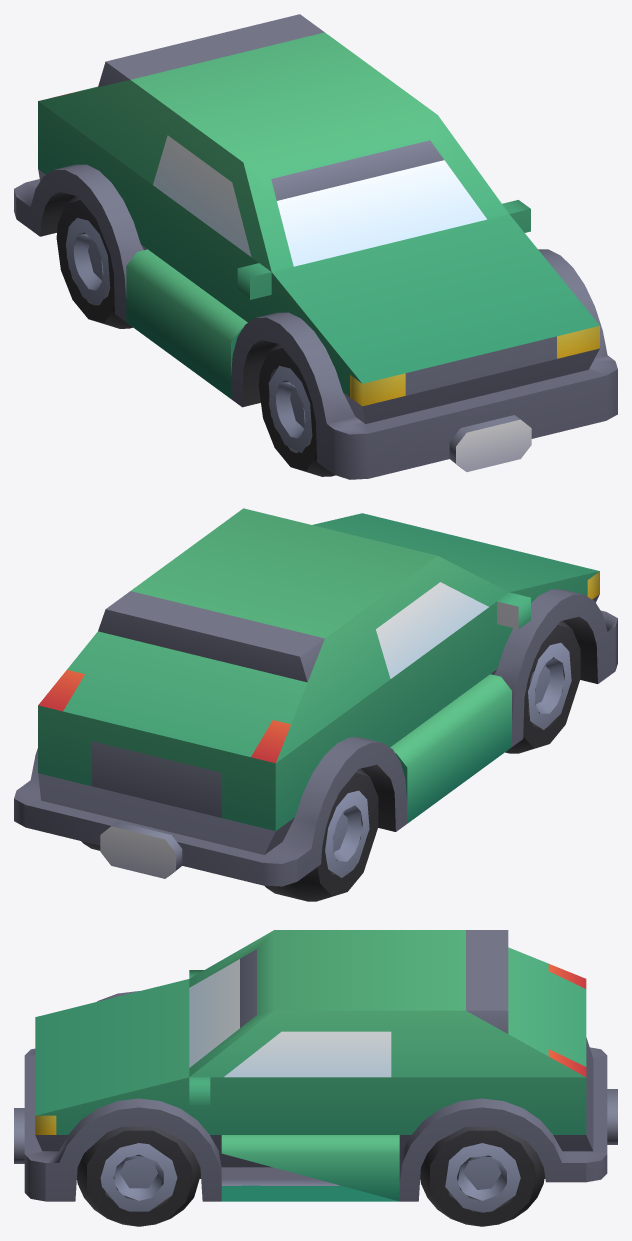
The model's file is hatchback-sports.glb.
The picture shows the model from 3 angles, top to bottom: view 1: azimuth 30°, elevation 25°; view 2: azimuth 150°, elevation 25°; view 3: azimuth 270°, elevation 25°; orthographic projection. The views are drawn at different scales.
Parts seen in each view (by area): view 1: wheel-front-right; view 2: wheel-front-right; view 3: wheel-front-right.
Part boxes in pixels (<box>): wheel-front-right: <box>14,14,617,479</box>; wheel-front-right: <box>14,508,617,901</box>; wheel-front-right: <box>14,930,617,1226</box>.
Bounding box in the file's own units: 1.95 × 1.65 × 4.28.
Materials: 1 (1 with a texture image).
